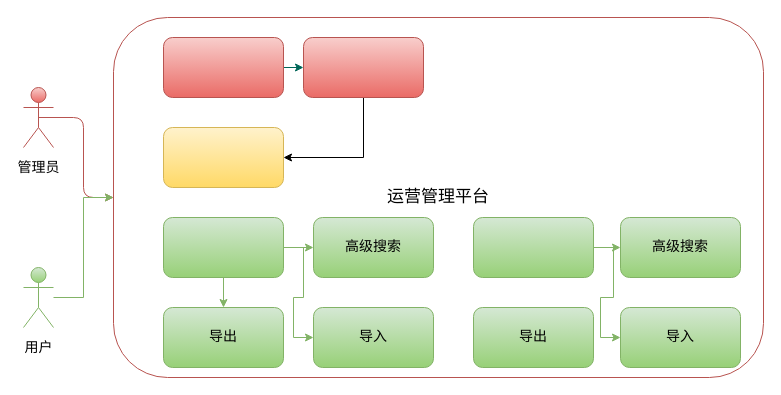
The diagram is 781 pixels wide and 395 high, and some of its shapes have lost their labels. Each missing label, with the box of its shape:
供应商管理: (472, 216, 594, 278)
关联自定义字段: (302, 36, 424, 98)
树形类目管理: (162, 36, 284, 98)
自定义字段管理: (162, 126, 284, 188)
资产管理: (162, 216, 284, 278)
